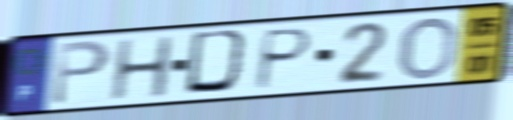2: (337, 20, 389, 87)
D: (182, 27, 255, 97)
H: (107, 33, 176, 103)
O: (395, 15, 460, 83)
P: (49, 37, 113, 108), (251, 25, 316, 93)
